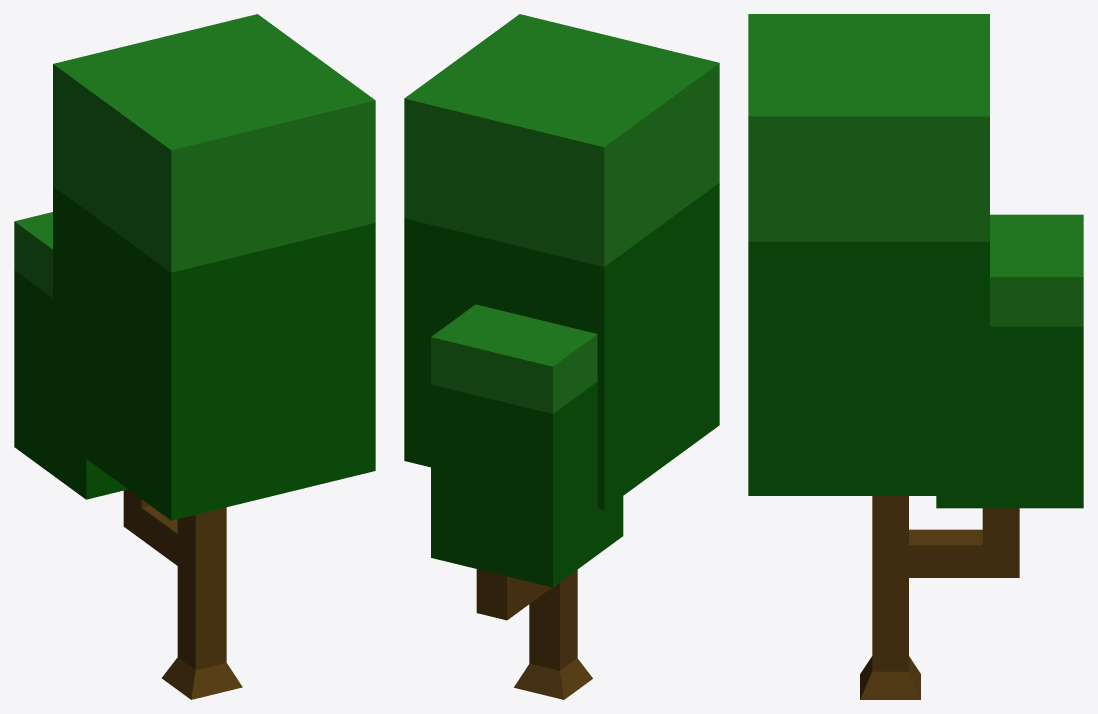
File: tree03.glb
3 renders of one model, left to right at view 1: azimuth 30°, elevation 25°; view 2: azimuth 150°, elevation 25°; view 3: azimuth 270°, elevation 25°, orthographic. The views are drawn at different scales.
Visible parts, largest first — view 1: tree2.003_summer_0; view 2: tree2.003_summer_0; view 3: tree2.003_summer_0.
Boxes of the visible parts, x1,y1,x2,y2 form: tree2.003_summer_0: (14, 14, 375, 699); tree2.003_summer_0: (404, 14, 719, 699); tree2.003_summer_0: (748, 14, 1083, 699).
Bounding box in the file's own units: 13.13 × 37.29 × 18.21.
1 material, 1 textured.
